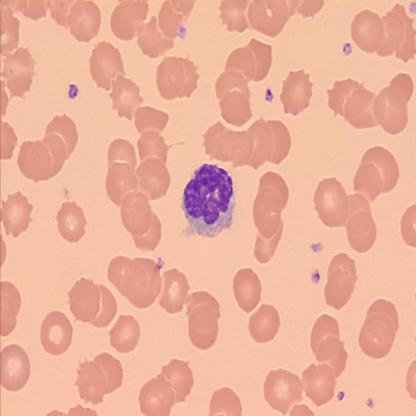Monocyte: (178, 161, 237, 240)
